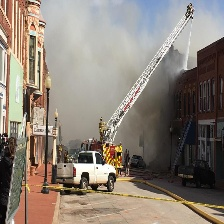smoke: (42, 5, 172, 155)
